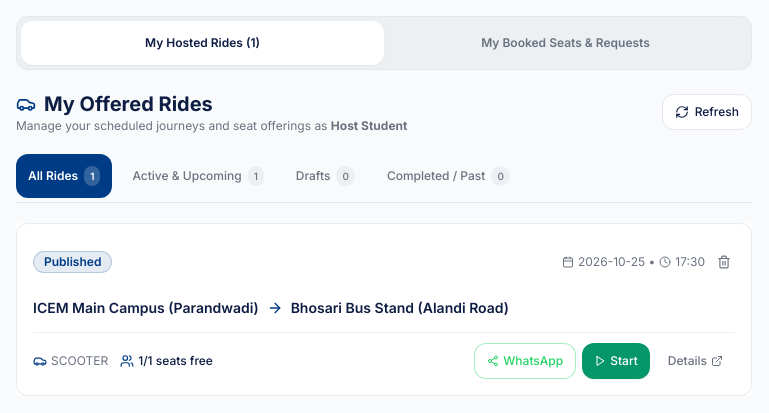
Scenario: MyRidesView Component (Phase 3) › allows starting a published ride from the dashboard
The width and height of the screenshot is (769, 413).
Click the button "Start" at (616, 361), box [582,343,650,379]
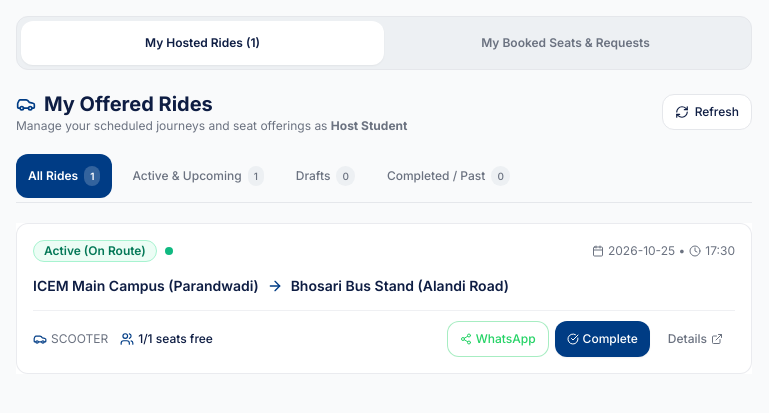
Now the text "Active (On Route)" is shown, box [33,240,157,262]
Now the button "Complete" is shown, box [555,321,650,357]
